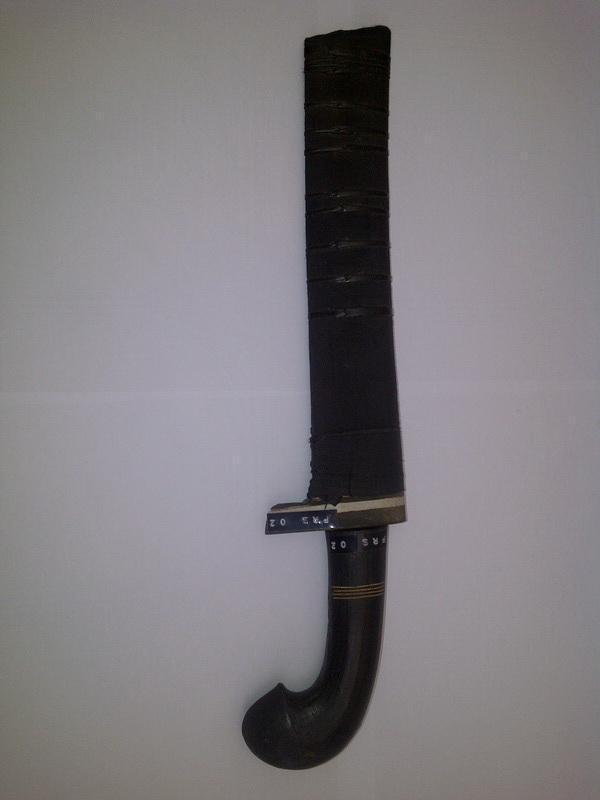espada: (249, 23, 414, 774)
